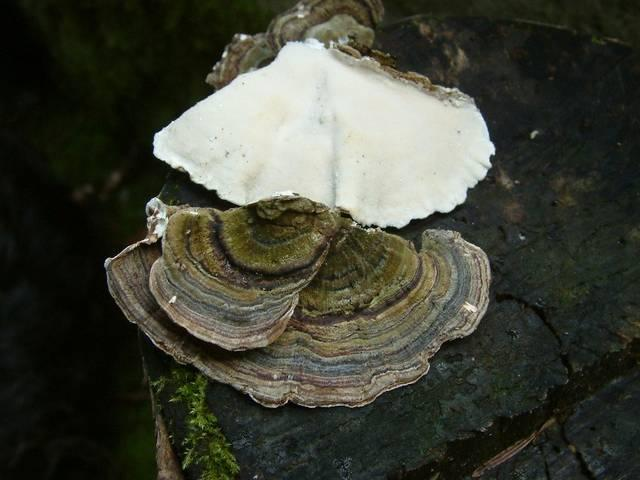poisonous_mushroom: (103, 36, 497, 409), (150, 37, 496, 229), (147, 191, 341, 352)
